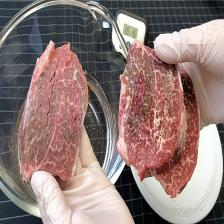meat: (17, 40, 89, 182), (116, 39, 186, 181)
